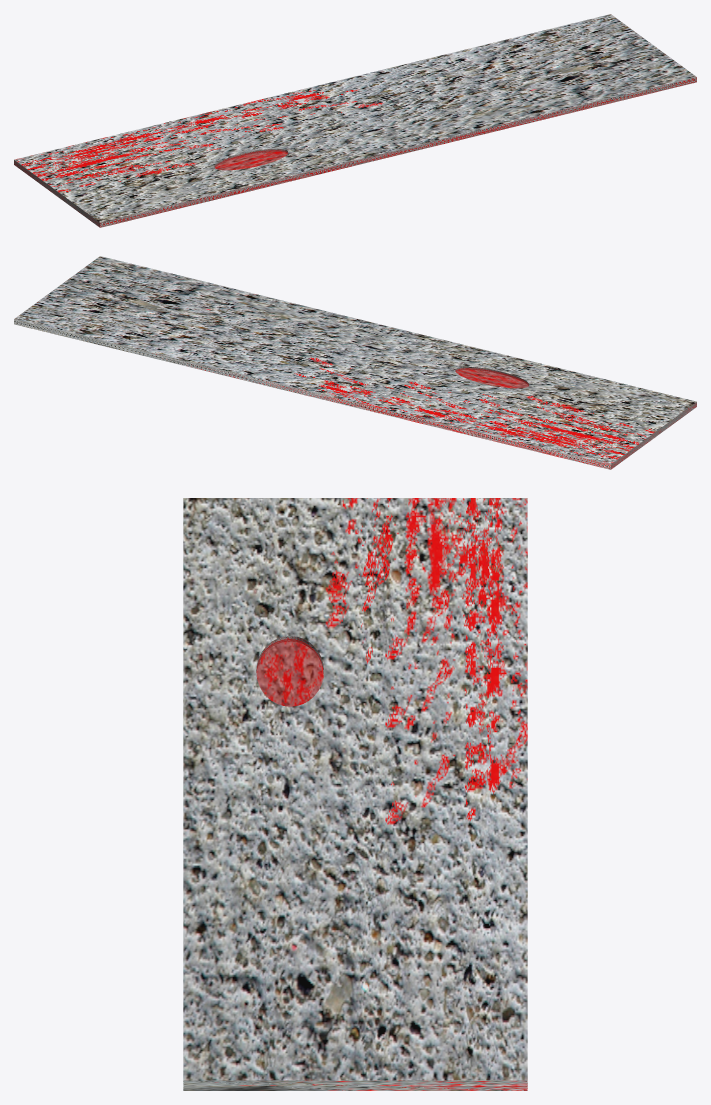
The model's file is gang_comb.obj.
3 renders of one model, top to bottom at view 1: azimuth 30°, elevation 25°; view 2: azimuth 150°, elevation 25°; view 3: azimuth 270°, elevation 25°, orthographic. The views are drawn at different scales.
Parts seen in each view (by area): view 1: Floor, Blood; view 2: Floor, Blood; view 3: Floor, Blood.
Part boxes in pixels (x1,y1,x2,y2): Floor: (14, 14, 696, 227); Blood: (215, 150, 287, 170); Floor: (14, 256, 696, 469); Blood: (455, 368, 528, 388); Floor: (183, 498, 527, 1090); Blood: (256, 639, 323, 706).
Size of the model in its own units: 12 by 0.1034 by 3.
Materials: 2 (1 with a texture image).
